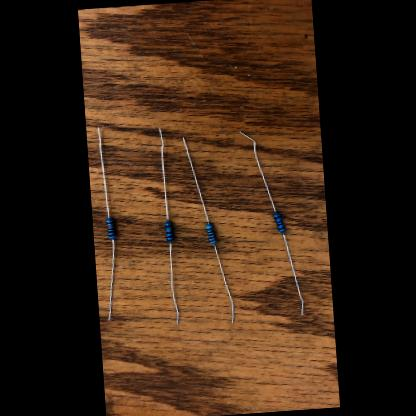resistor: (272, 212, 284, 232), (204, 223, 214, 244), (164, 220, 173, 242), (106, 217, 115, 239)
wire: (238, 128, 275, 214), (182, 134, 209, 224), (280, 232, 303, 315), (211, 242, 233, 323), (101, 238, 118, 320), (166, 243, 180, 324), (97, 126, 109, 218), (158, 128, 168, 221)
